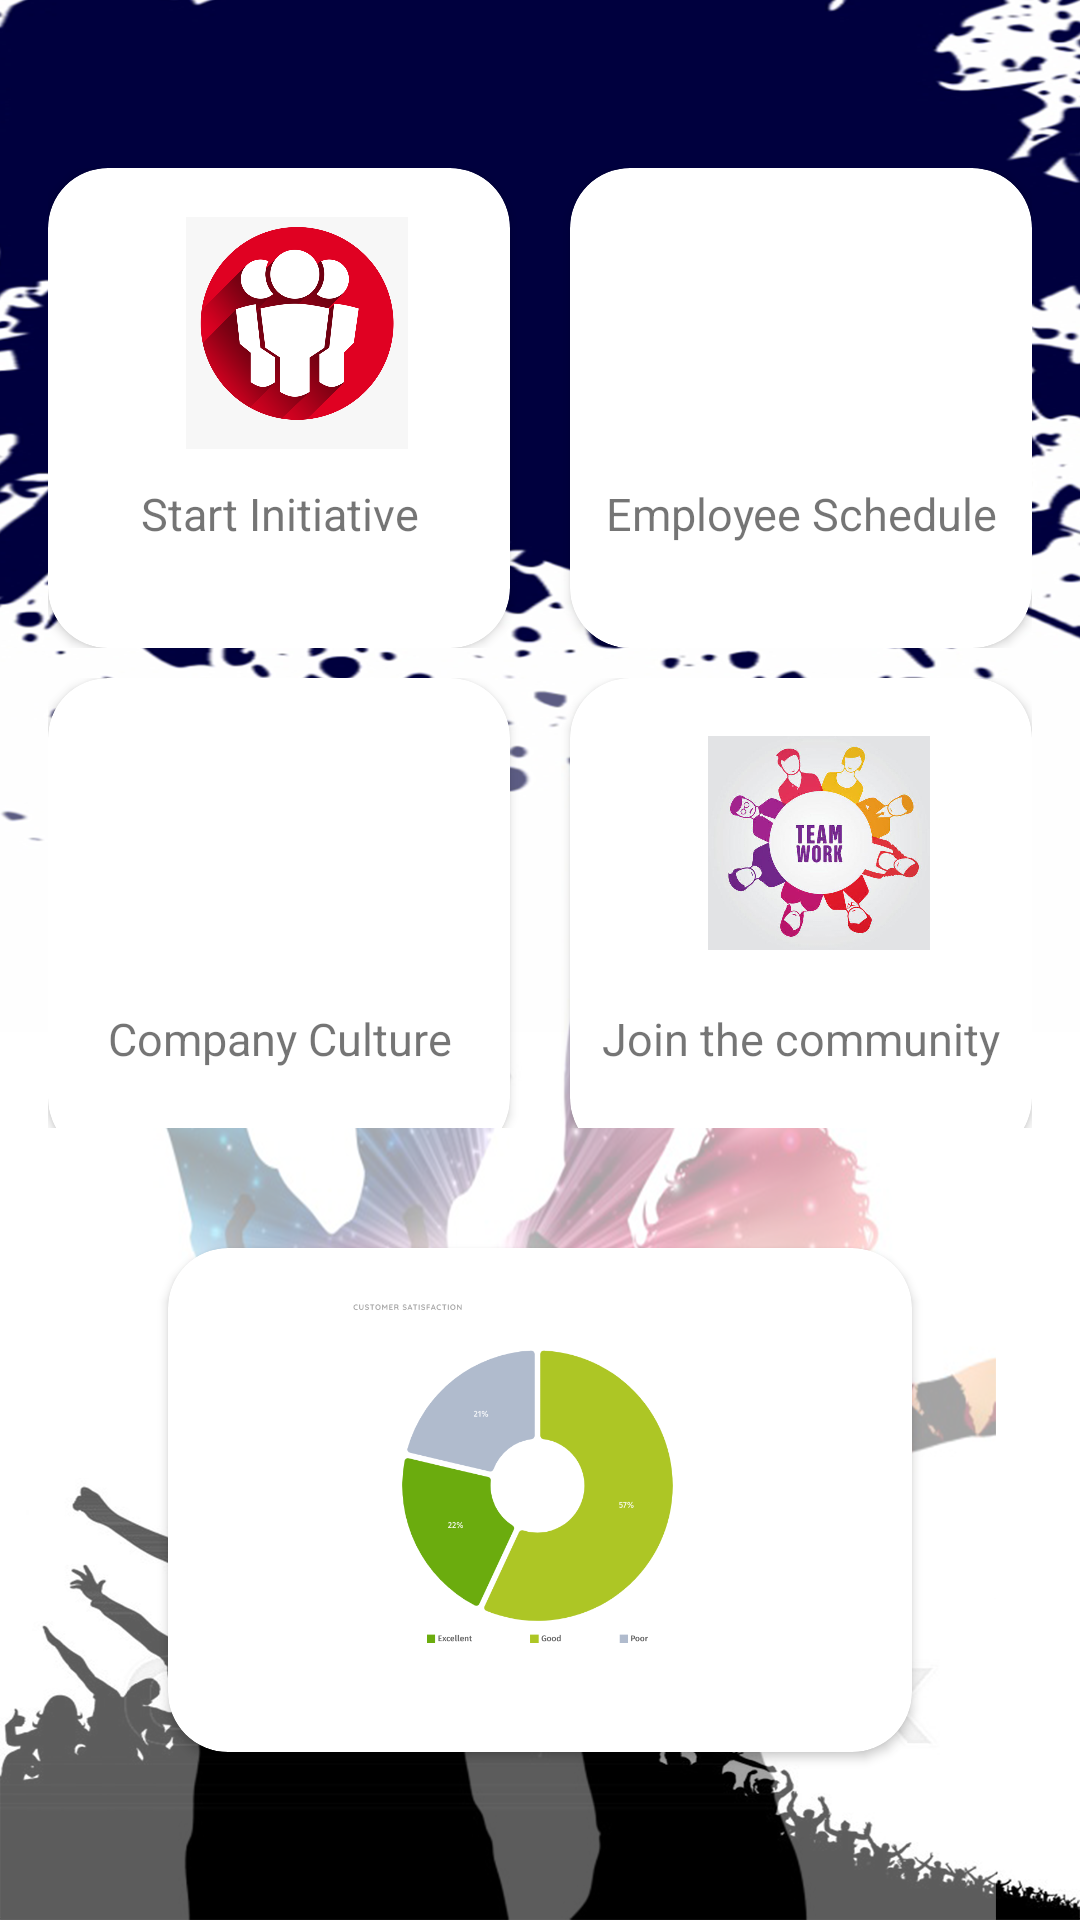

Icon click points for this 1080×1920 phone screenshot, format [x,y]:
people: [297,323]
